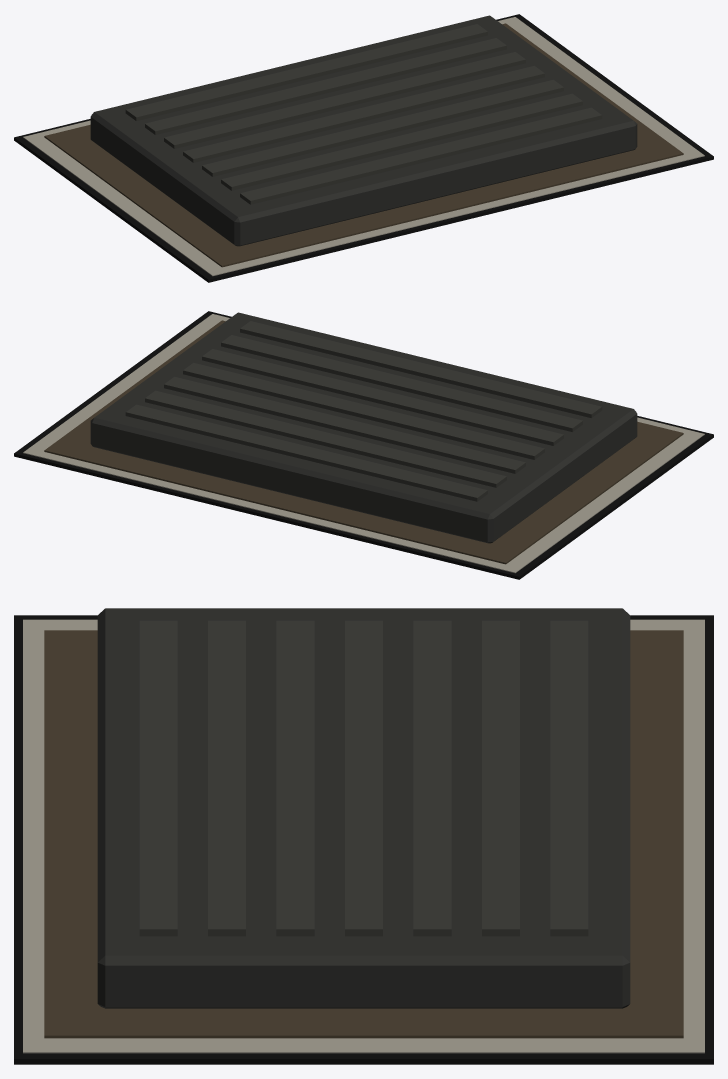
File: hm_prop_drain_grate_v2.obj
3 views of the same model, one above another, from view 1: azimuth 30°, elevation 25°; view 2: azimuth 150°, elevation 25°; view 3: azimuth 270°, elevation 25° (orthographic). The views are drawn at different scales.
Visible parts, largest first — view 1: Drain_Frame, hm_prop_drain_grate_v2_Dirt, hm_prop_drain_grate_v2_SaltRing, hm_prop_drain_grate_v2_Shadow, Drain_Bar_0, Drain_Bar_6, Drain_Bar_1, Drain_Bar_2, Drain_Bar_4, Drain_Bar_5, Drain_Bar_3; view 2: Drain_Frame, hm_prop_drain_grate_v2_Dirt, hm_prop_drain_grate_v2_SaltRing, hm_prop_drain_grate_v2_Shadow, Drain_Bar_6, Drain_Bar_0, Drain_Bar_5, Drain_Bar_4, Drain_Bar_1, Drain_Bar_2, Drain_Bar_3; view 3: Drain_Frame, hm_prop_drain_grate_v2_Dirt, hm_prop_drain_grate_v2_SaltRing, hm_prop_drain_grate_v2_Shadow, Drain_Bar_2, Drain_Bar_4, Drain_Bar_0, Drain_Bar_6, Drain_Bar_1, Drain_Bar_3, Drain_Bar_5.
Boxes of the visible parts, x1,y1,x2,y2 form: Drain_Frame: (90,15,637,246); hm_prop_drain_grate_v2_Dirt: (44,23,683,267); hm_prop_drain_grate_v2_SaltRing: (23,17,704,276); hm_prop_drain_grate_v2_Shadow: (14,14,713,282); Drain_Bar_0: (240,107,602,204); Drain_Bar_6: (125,24,487,120); Drain_Bar_1: (221,93,582,190); Drain_Bar_2: (202,79,563,176); Drain_Bar_4: (164,52,525,148); Drain_Bar_5: (145,38,506,134); Drain_Bar_3: (183,65,544,162); Drain_Frame: (90,312,637,543); hm_prop_drain_grate_v2_Dirt: (44,320,683,564); hm_prop_drain_grate_v2_SaltRing: (23,314,704,573); hm_prop_drain_grate_v2_Shadow: (14,311,713,579); Drain_Bar_6: (125,404,487,501); Drain_Bar_0: (240,321,602,417); Drain_Bar_5: (145,390,506,487); Drain_Bar_4: (164,376,525,473); Drain_Bar_1: (221,335,582,431); Drain_Bar_2: (202,349,563,445); Drain_Bar_3: (183,362,544,459); Drain_Frame: (97,608,630,1008); hm_prop_drain_grate_v2_Dirt: (44,630,683,1038); hm_prop_drain_grate_v2_SaltRing: (23,619,704,1053); hm_prop_drain_grate_v2_Shadow: (14,615,713,1064); Drain_Bar_2: (276,620,314,936); Drain_Bar_4: (413,620,451,936); Drain_Bar_0: (139,620,177,936); Drain_Bar_6: (550,620,588,936); Drain_Bar_1: (208,620,245,936); Drain_Bar_3: (345,620,382,936); Drain_Bar_5: (482,620,519,936).
Bounding box in the file's own units: 0.69 × 0.049 × 0.46.
